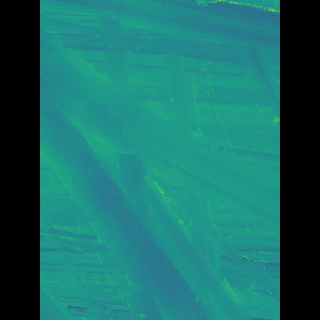Loch: (69, 27, 223, 320), (142, 158, 250, 303)
